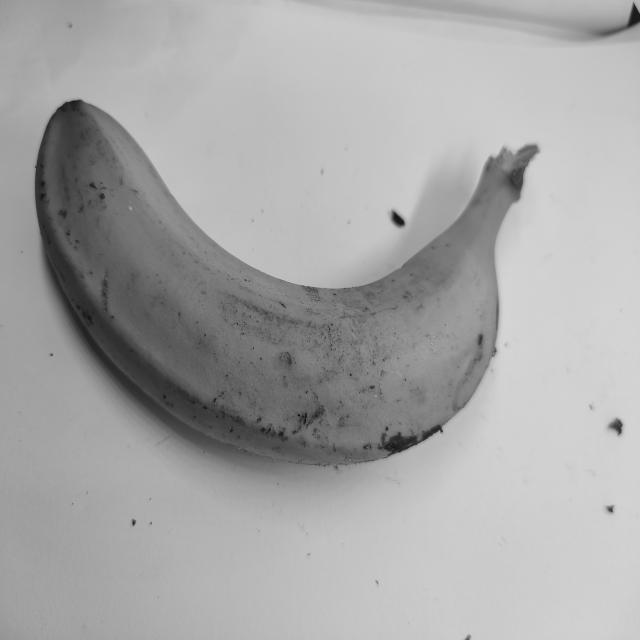Raw: (29, 68, 559, 506)
